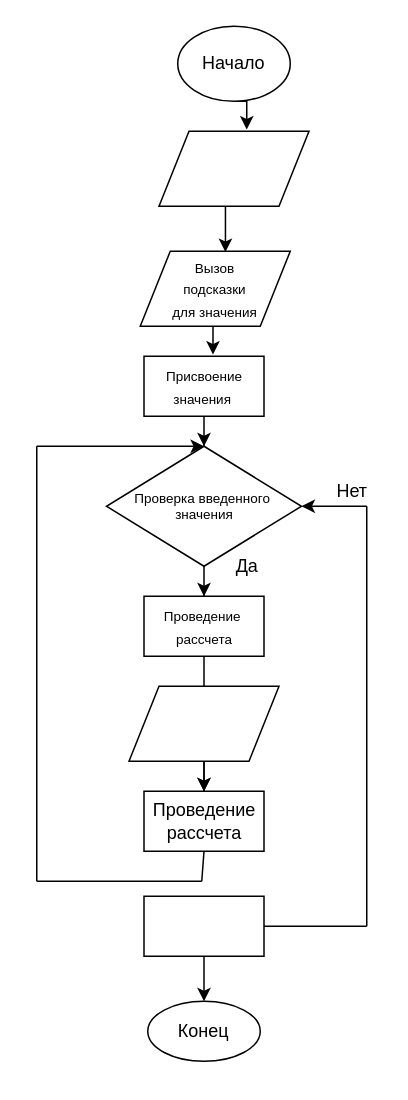
The diagram is 408 pixels wide and 1100 high, and some of its shapes have lost their labels. The centre of each missing label's shape, as x and y in pixels:
"Выведение автора программы" belongs at (233,168).
"Выведение ответа" belongs at (203,723).
"Завершение работы" belongs at (203,925).
